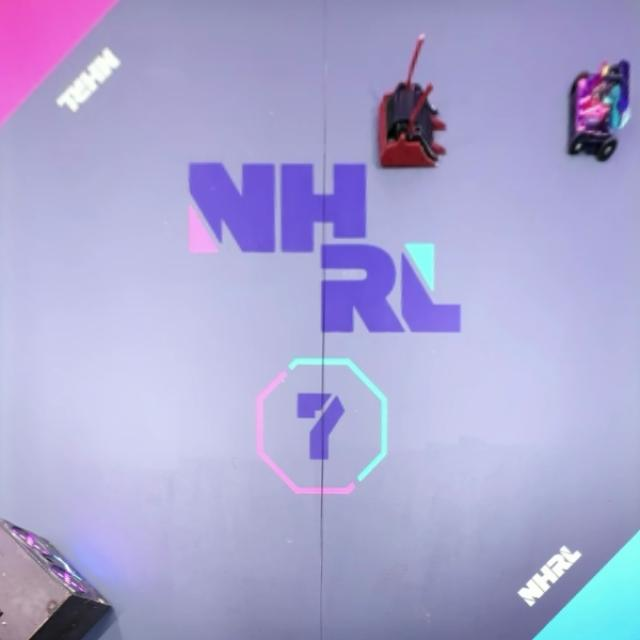housebot: (0, 516, 116, 640)
robot: (379, 34, 448, 168), (569, 59, 634, 160)
